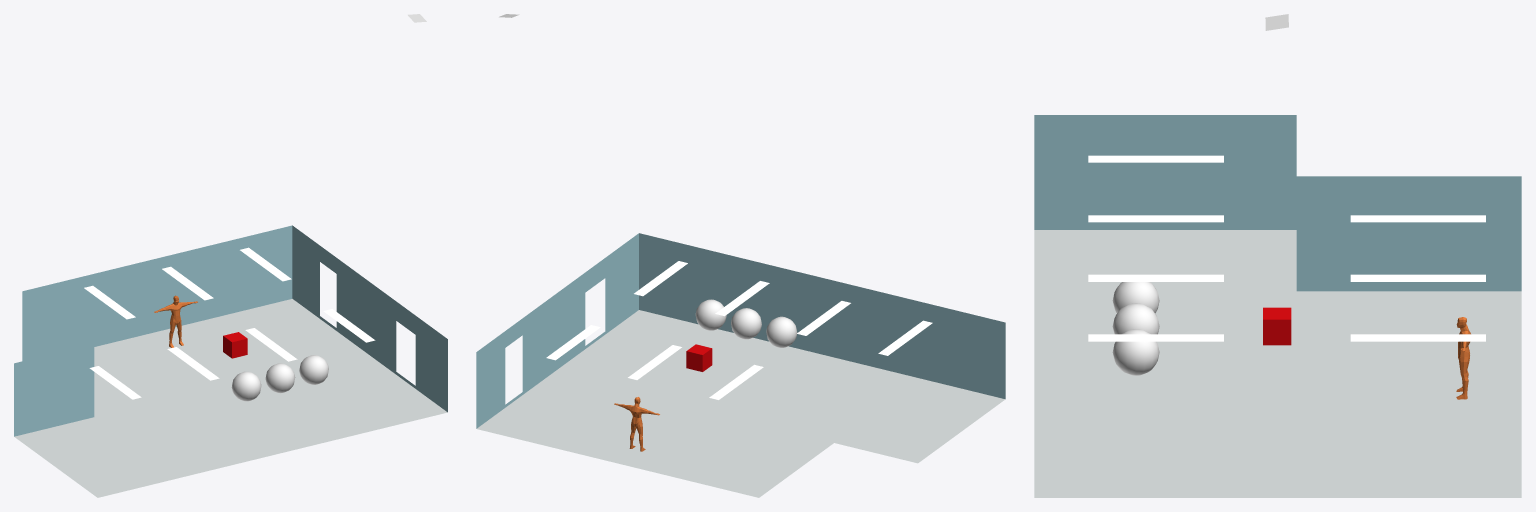
The model's file is ref-scene.gltf.
3 renders of one model, left to right at view 1: azimuth 30°, elevation 25°; view 2: azimuth 150°, elevation 25°; view 3: azimuth 270°, elevation 25°, orthographic. The views are drawn at different scales.
Visible parts, largest first — view 1: floor, walls, Sphere.002, Sphere, Sphere.001, ref_body, vr_start_pos; view 2: floor, walls, Sphere.002, Sphere, Sphere.001, vr_start_pos, ref_body; view 3: floor, walls, Sphere.001, Sphere, vr_start_pos, ceiling_light, ceiling_light.001, ceiling_light.003, ceiling_light.005, ceiling_light.006, ceiling_light.002, ceiling_light.004 (+2 smaller).
Part boxes in pixels (x1,y1,x2,y2): floor: [14, 299, 447, 497]; walls: [14, 225, 447, 436]; Sphere.002: [231, 371, 261, 401]; Sphere: [265, 363, 295, 393]; Sphere.001: [299, 355, 328, 384]; ref_body: [154, 295, 197, 347]; vr_start_pos: [223, 332, 247, 358]; floor: [477, 310, 1004, 497]; walls: [476, 233, 1005, 428]; Sphere.002: [766, 316, 797, 347]; Sphere: [731, 308, 761, 339]; Sphere.001: [695, 299, 726, 330]; vr_start_pos: [686, 344, 712, 371]; ref_body: [614, 397, 659, 451]; floor: [1034, 230, 1521, 497]; walls: [1034, 115, 1521, 291]; Sphere.001: [1112, 329, 1159, 375]; Sphere: [1112, 303, 1159, 334]; vr_start_pos: [1263, 307, 1291, 345]; ceiling_light: [1350, 334, 1485, 341]; ceiling_light.001: [1088, 334, 1223, 341]; ceiling_light.003: [1088, 274, 1223, 281]; ceiling_light.005: [1088, 215, 1223, 222]; ceiling_light.006: [1088, 155, 1223, 162]; ceiling_light.002: [1350, 274, 1485, 281]; ceiling_light.004: [1350, 215, 1485, 222].
Size of what is drawn, in the model's own units: 15.53 by 12.09 by 10.37.
